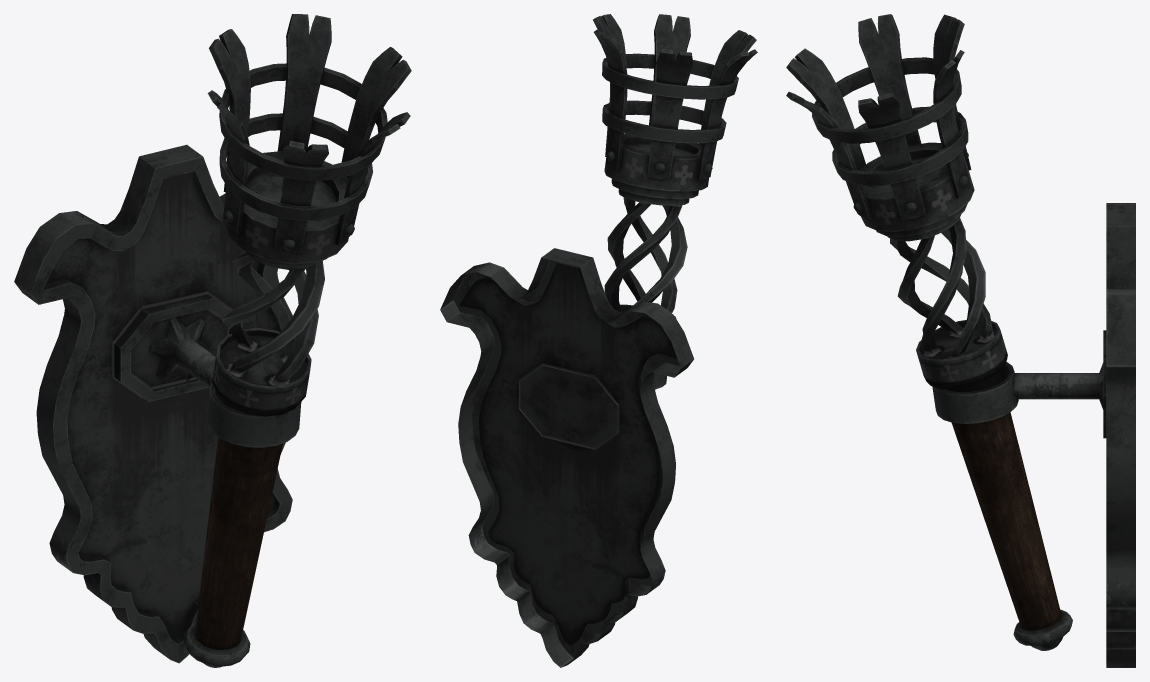
Rendered from wall_torch.glb.
3 renders of one model, left to right at view 1: azimuth 30°, elevation 25°; view 2: azimuth 150°, elevation 25°; view 3: azimuth 270°, elevation 25°, orthographic. The views are drawn at different scales.
Visible parts, largest first — view 1: polySurface1, pCylinder3, polySurface5, pCylinder2, pCube29, pCylinder8, pCylinder9, pCube9, pCylinder6, pCylinder7, pCube26, pCube28 (+6 smaller); view 2: polySurface1, pCylinder2, pCube28, pCylinder8, pCylinder9, pCube29, pCube27, pCube37, pCube25, pCube36, pCube18, pCube26 (+2 smaller); view 3: pCylinder3, polySurface1, pCylinder2, pCylinder8, pCube27, pCube9, pCylinder6, pCube26, pCylinder7, pCylinder9, pCube29, pCube18 (+5 smaller).
Part boxes in pixels (x1=…): polySurface1: x1=14, y1=144, x2=292, y2=663; pCylinder3: x1=183, y1=328, x2=311, y2=667; polySurface5: x1=113, y1=293, x2=242, y2=401; pCylinder2: x1=222, y1=151, x2=348, y2=269; pCube29: x1=277, y1=14, x2=331, y2=151; pCylinder8: x1=219, y1=63, x2=387, y2=180; pCylinder9: x1=219, y1=113, x2=372, y2=221; pCube9: x1=341, y1=47, x2=411, y2=178; pCylinder6: x1=207, y1=383, x2=301, y2=447; pCylinder7: x1=149, y1=317, x2=215, y2=387; pCube26: x1=273, y1=140, x2=328, y2=255; pCube28: x1=209, y1=29, x2=250, y2=192; polySurface1: x1=440, y1=248, x2=693, y2=667; pCylinder2: x1=604, y1=134, x2=708, y2=205; pCube28: x1=647, y1=49, x2=692, y2=179; pCylinder8: x1=602, y1=53, x2=738, y2=99; pCylinder9: x1=602, y1=100, x2=726, y2=143; pCube29: x1=593, y1=29, x2=627, y2=169; pCube27: x1=696, y1=49, x2=757, y2=179; pCube37: x1=604, y1=205, x2=682, y2=312; pCube25: x1=649, y1=14, x2=690, y2=125; pCube36: x1=629, y1=205, x2=687, y2=309; pCube18: x1=607, y1=202, x2=650, y2=301; pCube26: x1=699, y1=30, x2=756, y2=144; pCylinder3: x1=916, y1=320, x2=1072, y2=650; polySurface1: x1=1106, y1=203, x2=1135, y2=667; pCylinder2: x1=859, y1=142, x2=974, y2=241; pCylinder8: x1=812, y1=57, x2=961, y2=143; pCube27: x1=858, y1=14, x2=921, y2=145; pCube9: x1=858, y1=92, x2=926, y2=220; pCylinder6: x1=932, y1=362, x2=1018, y2=423; pCube26: x1=786, y1=48, x2=865, y2=170; pCylinder7: x1=1014, y1=363, x2=1103, y2=409; pCylinder9: x1=832, y1=106, x2=968, y2=185; pCube29: x1=933, y1=50, x2=971, y2=198; pCube18: x1=920, y1=218, x2=966, y2=354.
Bounding box in the file's own units: 0.2386 × 0.5366 × 0.2689.
1 material, 1 textured.
